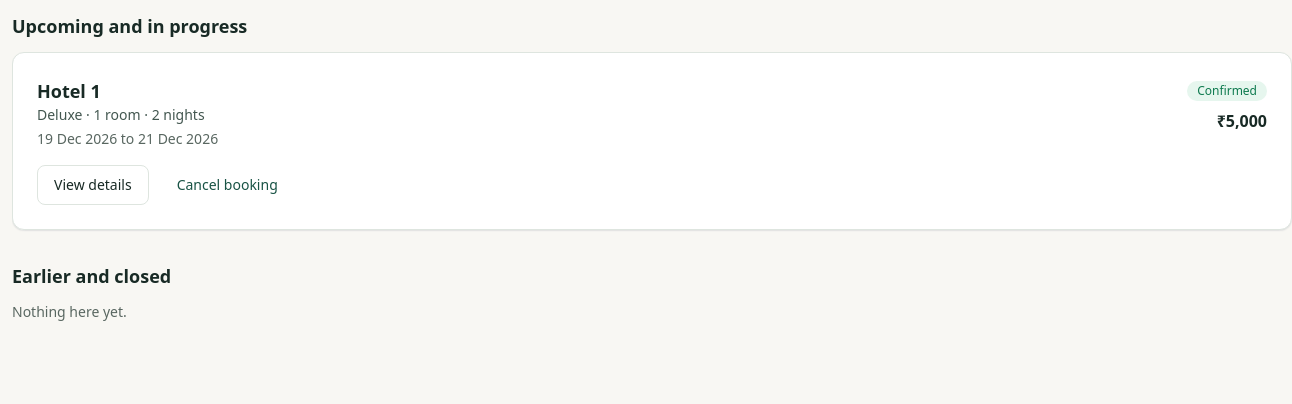
my bookings › asks to confirm before cancelling, and keeps the booking if the guest changes their mind
Later steps or results of the test are not shown.
Click the button "Cancel booking" at (227, 185), box x1=161 y1=165 x2=294 y2=205
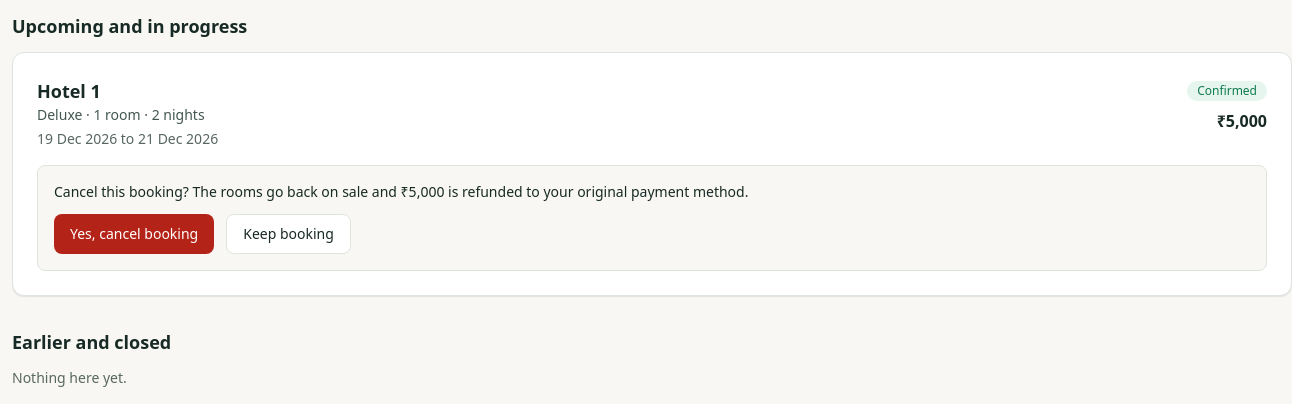
Expected: the element named "Confirm cancellation" shows "₹5,000 is refunded", x1=37 y1=165 x2=1267 y2=271
